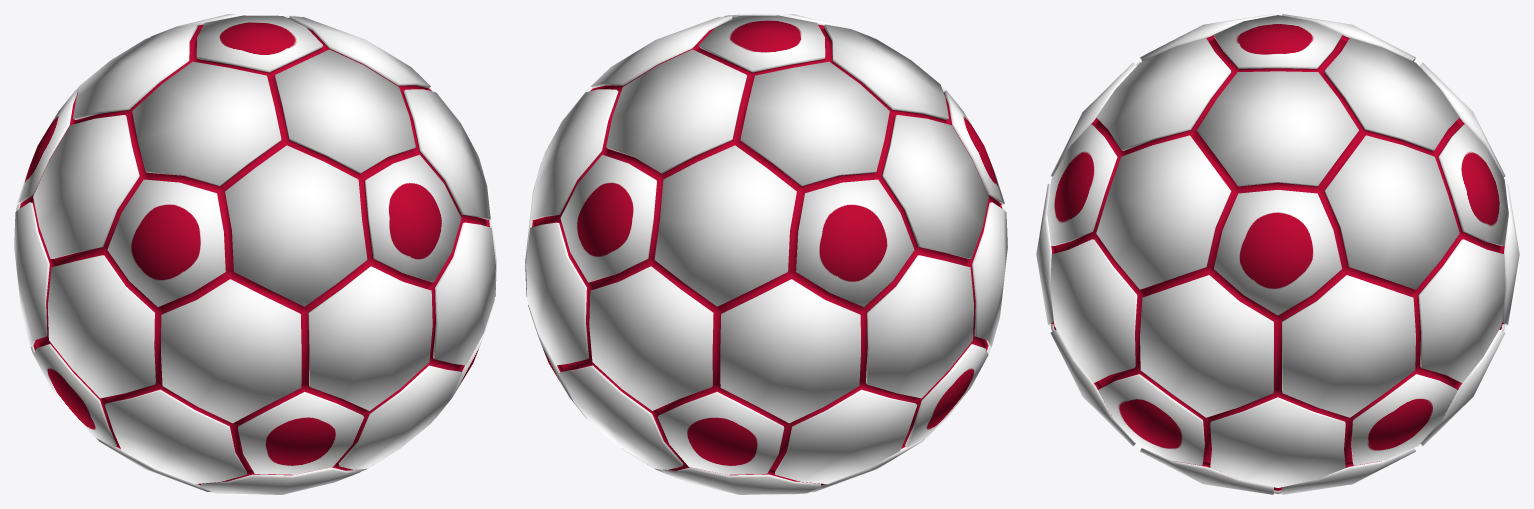
File: pelotaJAPON.glb
3 renders of one model, left to right at view 1: azimuth 30°, elevation 25°; view 2: azimuth 150°, elevation 25°; view 3: azimuth 270°, elevation 25°, orthographic.
Visible parts, largest first — view 1: Material_001-material; view 2: Material_001-material; view 3: Material_001-material.
Boxes of the visible parts, x1,y1,x2,y2 form: Material_001-material: [14, 14, 496, 494]; Material_001-material: [525, 14, 1007, 494]; Material_001-material: [1036, 14, 1519, 494].
Size of the model in its own units: 0.011 by 0.0112 by 0.0111.
Materials: 1 (1 with a texture image).
